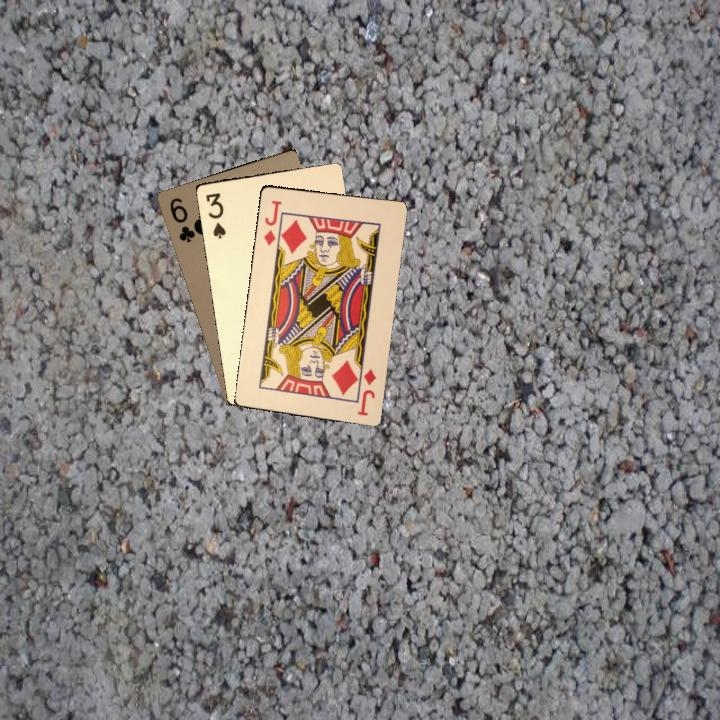3s: (202, 189, 228, 241)
6c: (166, 193, 198, 245)
Jd: (353, 365, 378, 419), (259, 196, 284, 247)
